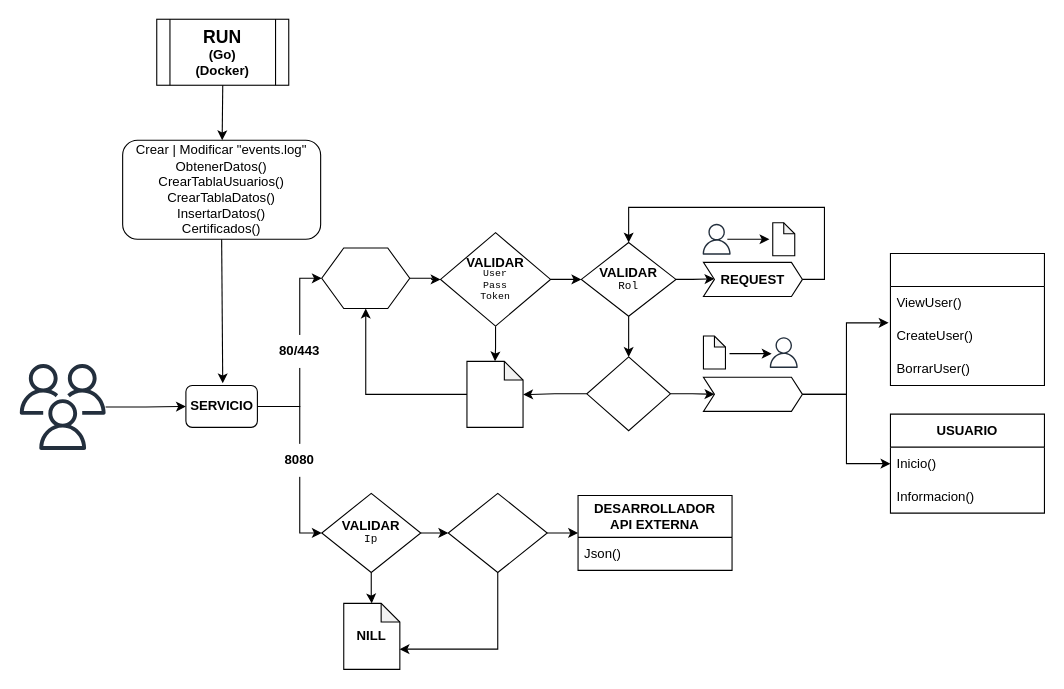
Image size: 1064x689. Some labels were removed from this diagram. Each missing label, with the box of its shape:
ADMINISTRATOR: (889, 252, 1044, 386)
COOKIE jwt: (586, 356, 670, 431)
ERROR: (466, 360, 523, 427)
LOGIN(): (321, 247, 410, 309)
RESPONSE: (702, 376, 802, 411)
VALIDAR jwt: (447, 492, 547, 573)
